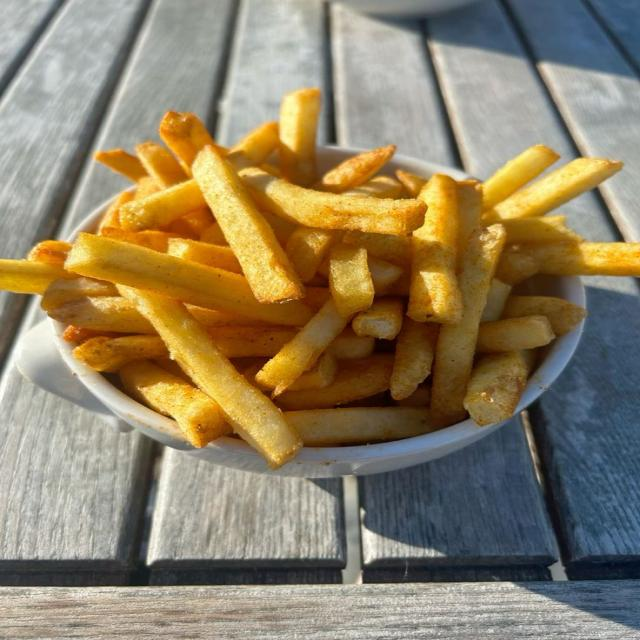potato fries: (0, 89, 639, 468), (119, 286, 301, 468), (66, 234, 312, 326), (192, 147, 304, 302), (431, 225, 505, 426), (240, 168, 426, 234), (120, 361, 232, 446), (256, 300, 350, 396), (487, 158, 622, 220), (407, 175, 462, 324), (278, 354, 393, 409), (285, 408, 433, 446), (483, 145, 559, 210), (464, 351, 528, 425), (120, 181, 206, 230), (520, 243, 639, 277), (314, 145, 396, 194), (391, 317, 439, 399), (280, 88, 320, 186), (160, 111, 214, 175), (329, 244, 374, 317), (502, 296, 586, 335), (476, 316, 555, 352), (227, 122, 279, 169), (0, 260, 73, 293), (136, 142, 187, 188), (353, 297, 404, 339), (94, 149, 147, 182)
